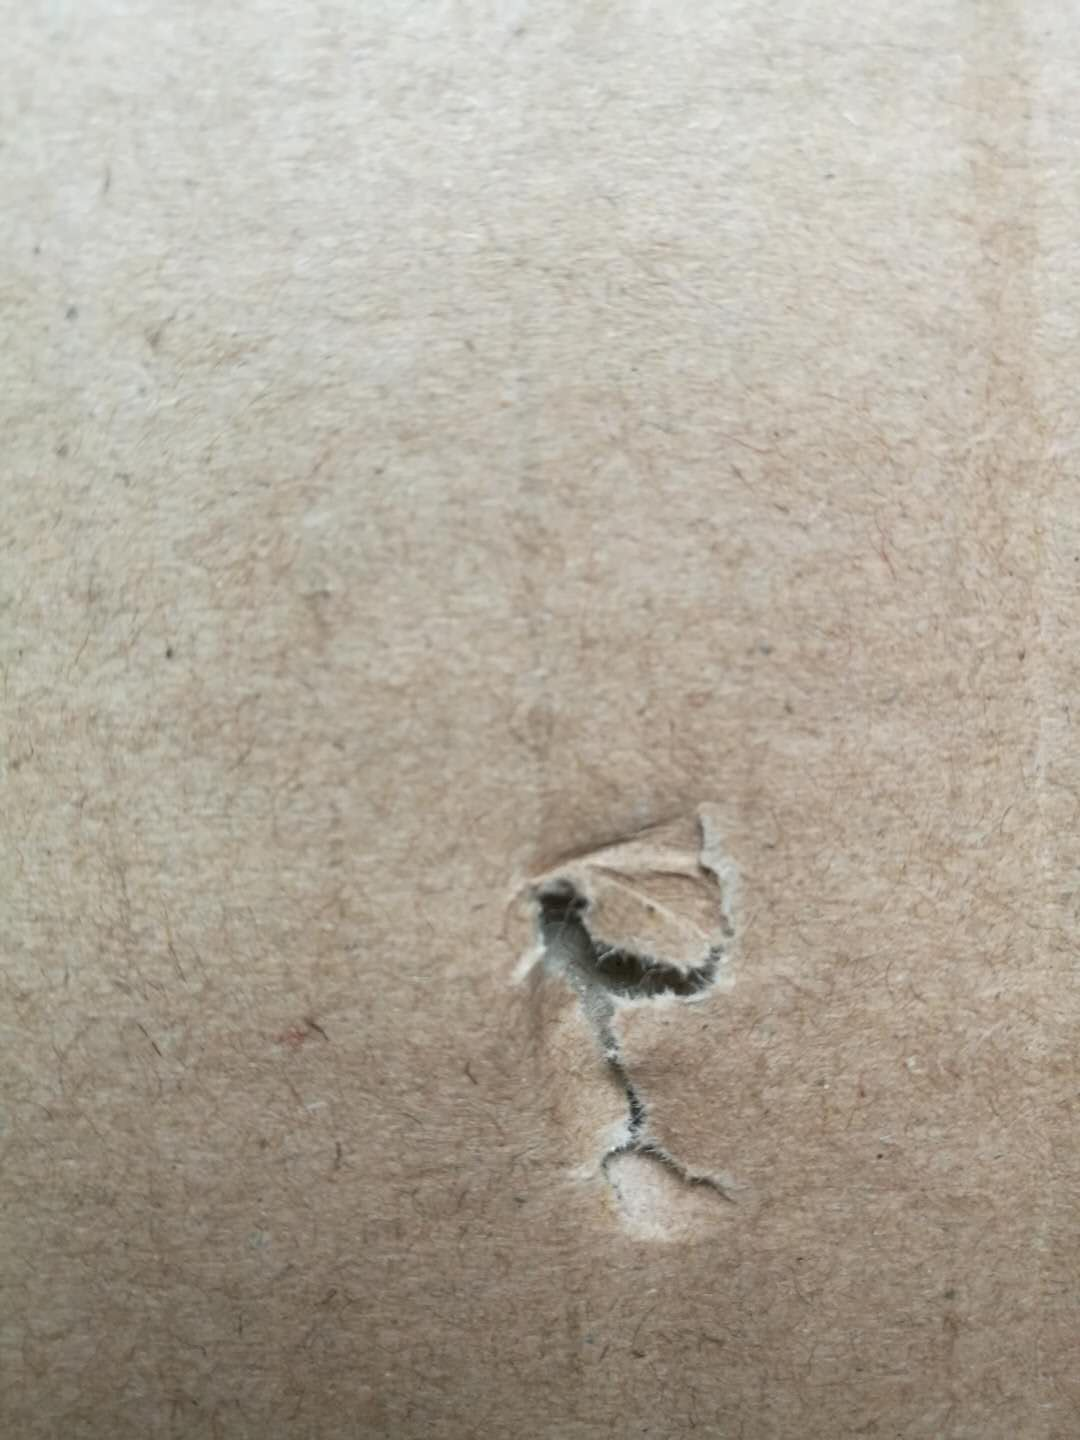defect: (469, 782, 798, 1261)
